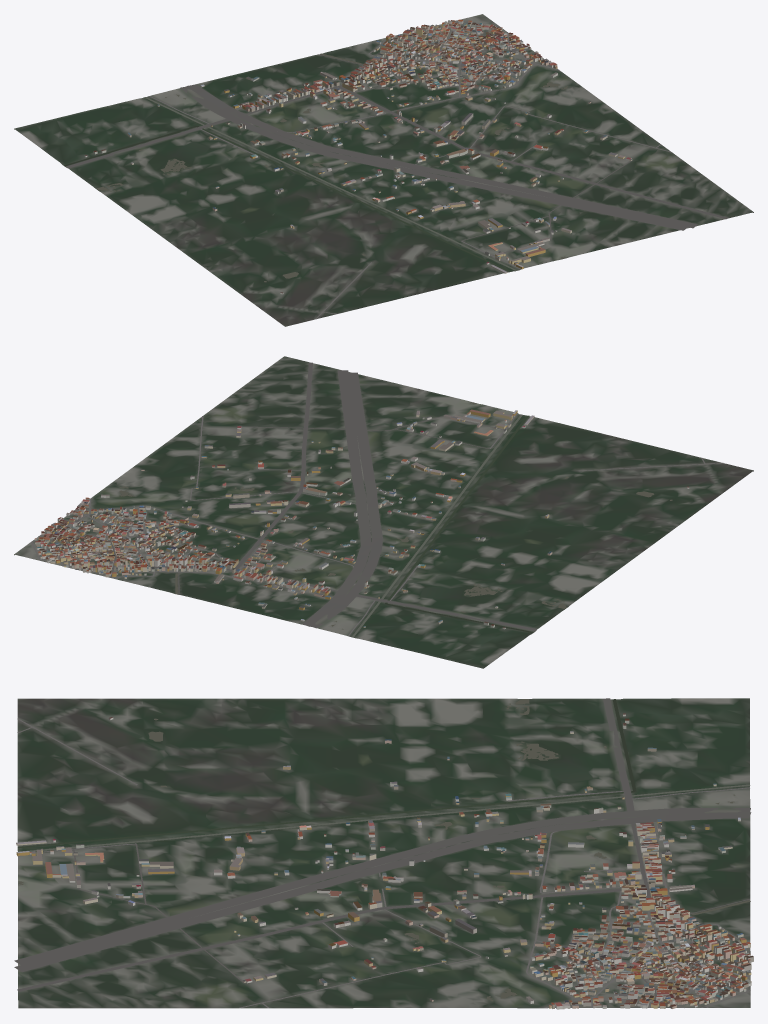
3 renders of one model, top to bottom at view 1: azimuth 30°, elevation 25°; view 2: azimuth 150°, elevation 25°; view 3: azimuth 270°, elevation 25°, orthographic. The views are drawn at different scales.
Visible parts, largest first — view 1: ground, buildings, roads, water; view 2: ground, buildings, roads, water; view 3: ground, buildings, roads, water.
Boxes of the visible parts, x1,y1,x2,y2 form: ground: [14, 14, 753, 326]; buildings: [84, 19, 632, 294]; roads: [66, 20, 727, 319]; water: [64, 53, 567, 282]; ground: [14, 356, 753, 668]; buildings: [34, 409, 689, 629]; roads: [30, 362, 723, 636]; water: [119, 402, 672, 637]; ground: [17, 698, 750, 1008]; buildings: [16, 713, 753, 1009]; roads: [14, 698, 751, 1008]; water: [17, 699, 750, 1001].
Bounding box in the file's own units: 1409 × 25.83 × 1416.
